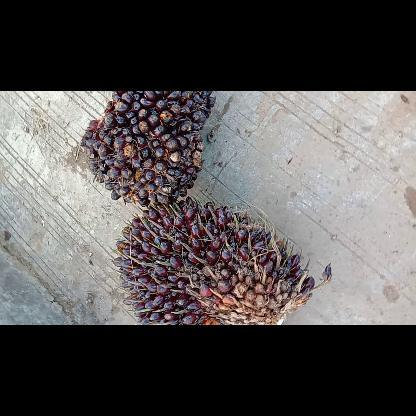TBS mentah: (110, 206, 332, 324), (79, 90, 215, 206)
